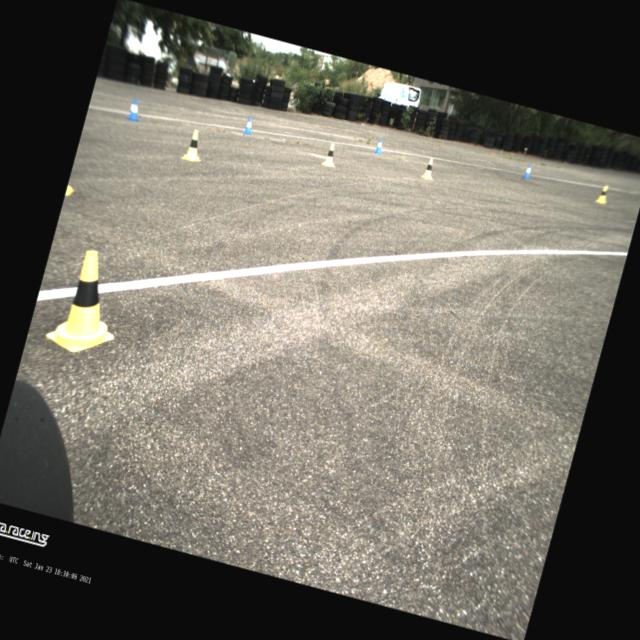blue_cone: (126, 98, 143, 122), (242, 116, 255, 136), (372, 136, 384, 154), (522, 162, 532, 178)
yellow_cone: (42, 243, 134, 361), (180, 128, 208, 164), (320, 141, 340, 168), (420, 156, 438, 181), (594, 183, 610, 204)
